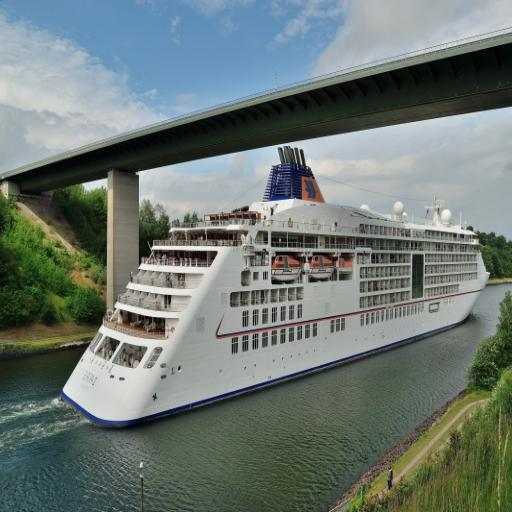cruises: (57, 144, 493, 431)
